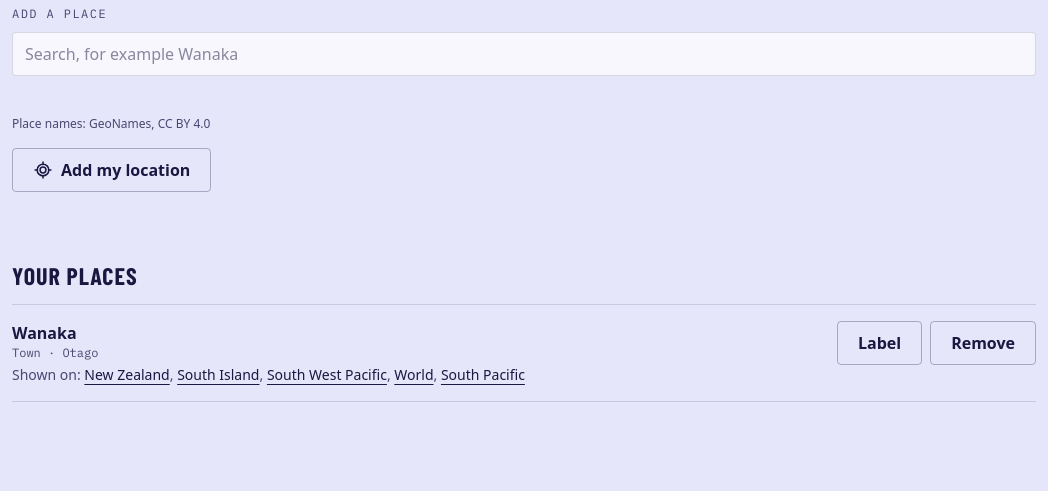
Test: <PinsPage /> › labelling › saves what was typed as the label, shown beside the name
The width and height of the screenshot is (1048, 491).
Step 1. Click the button with aria-label "Label Wanaka" → (880, 343), box [837,321,922,365]
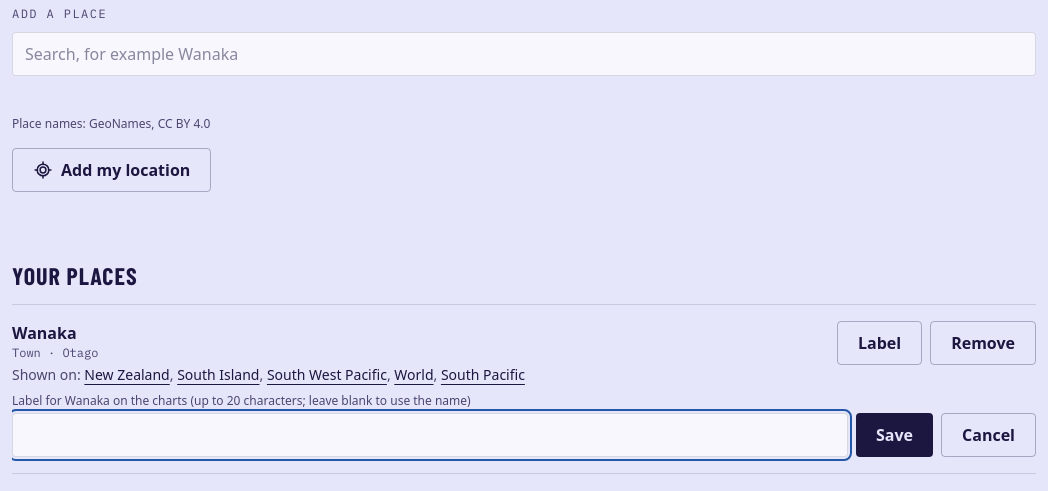
Step 2. Type "Home" into the field labelled "Label for Wanaka on the charts" → (430, 435), box [12,413,848,457]
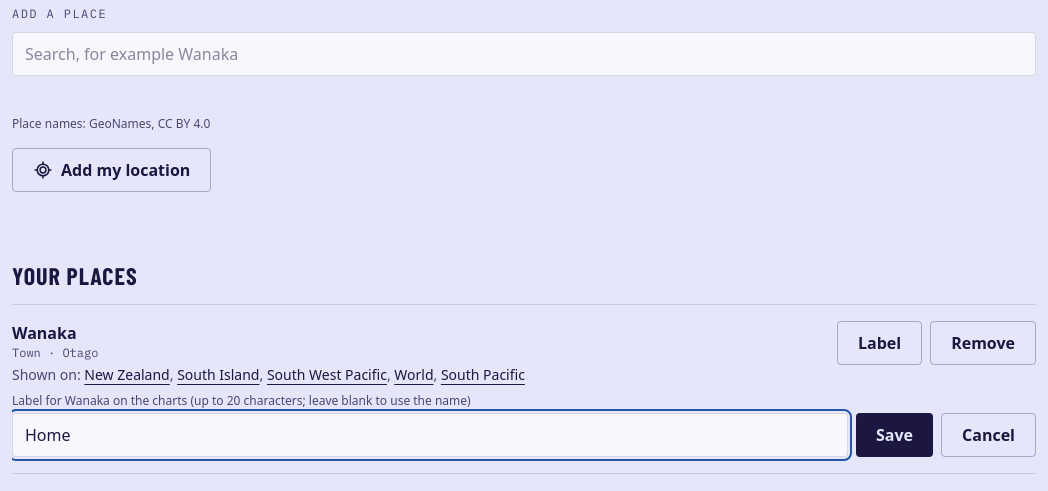
Step 3. Click the button "Save" → (894, 435), box [856,413,933,457]
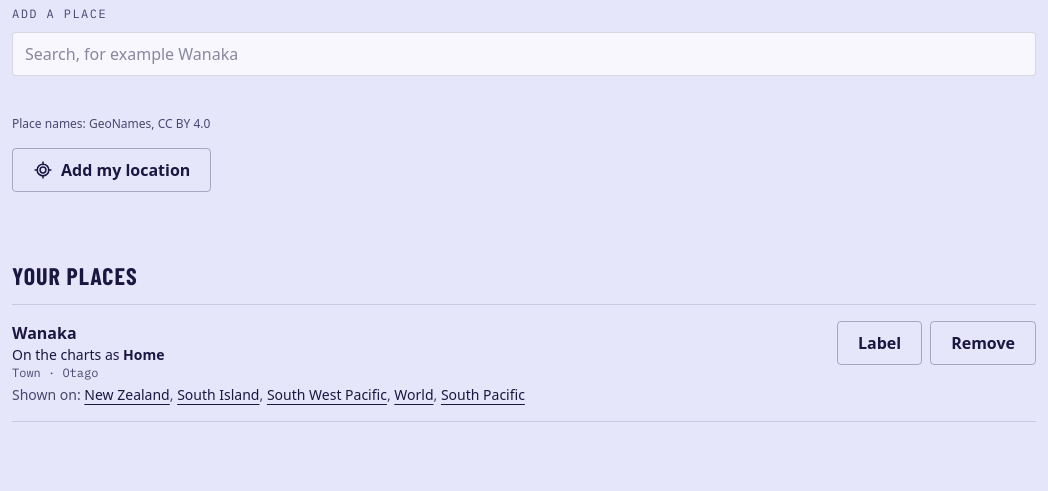
expect the text "Home" is shown: met, box [123,345,164,364]
expect the label labelled "Label for Wanaka" is gone: met
